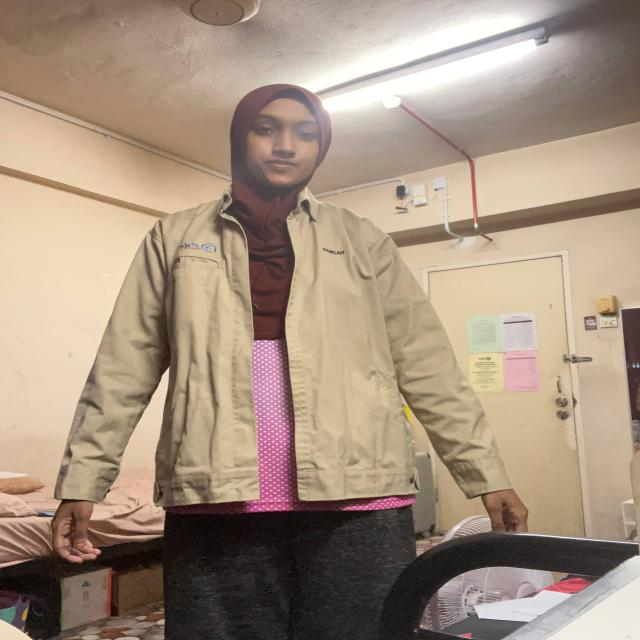person_with_labcoat: (51, 84, 528, 640)
